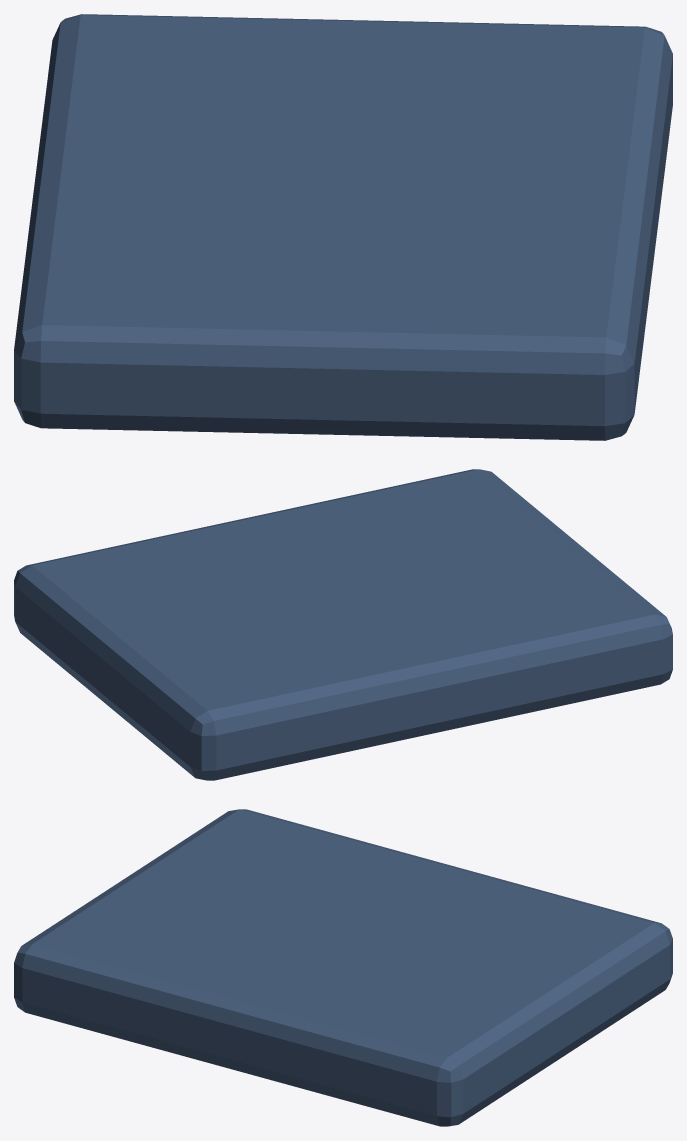
The model's file is Ropa.fbx.
3 renders of one model, top to bottom at view 1: azimuth 30°, elevation 25°; view 2: azimuth 150°, elevation 25°; view 3: azimuth 270°, elevation 25°, orthographic. The views are drawn at different scales.
Parts seen in each view (by area): view 1: Deco_Ropa_Silla.001; view 2: Deco_Ropa_Silla.001; view 3: Deco_Ropa_Silla.001.
Part boxes in pixels (<box>): Deco_Ropa_Silla.001: <box>14,14,672,440</box>; Deco_Ropa_Silla.001: <box>14,469,672,780</box>; Deco_Ropa_Silla.001: <box>14,809,672,1126</box>.
Size of the model in its own units: 0.3289 by 0.04 by 0.3465.
